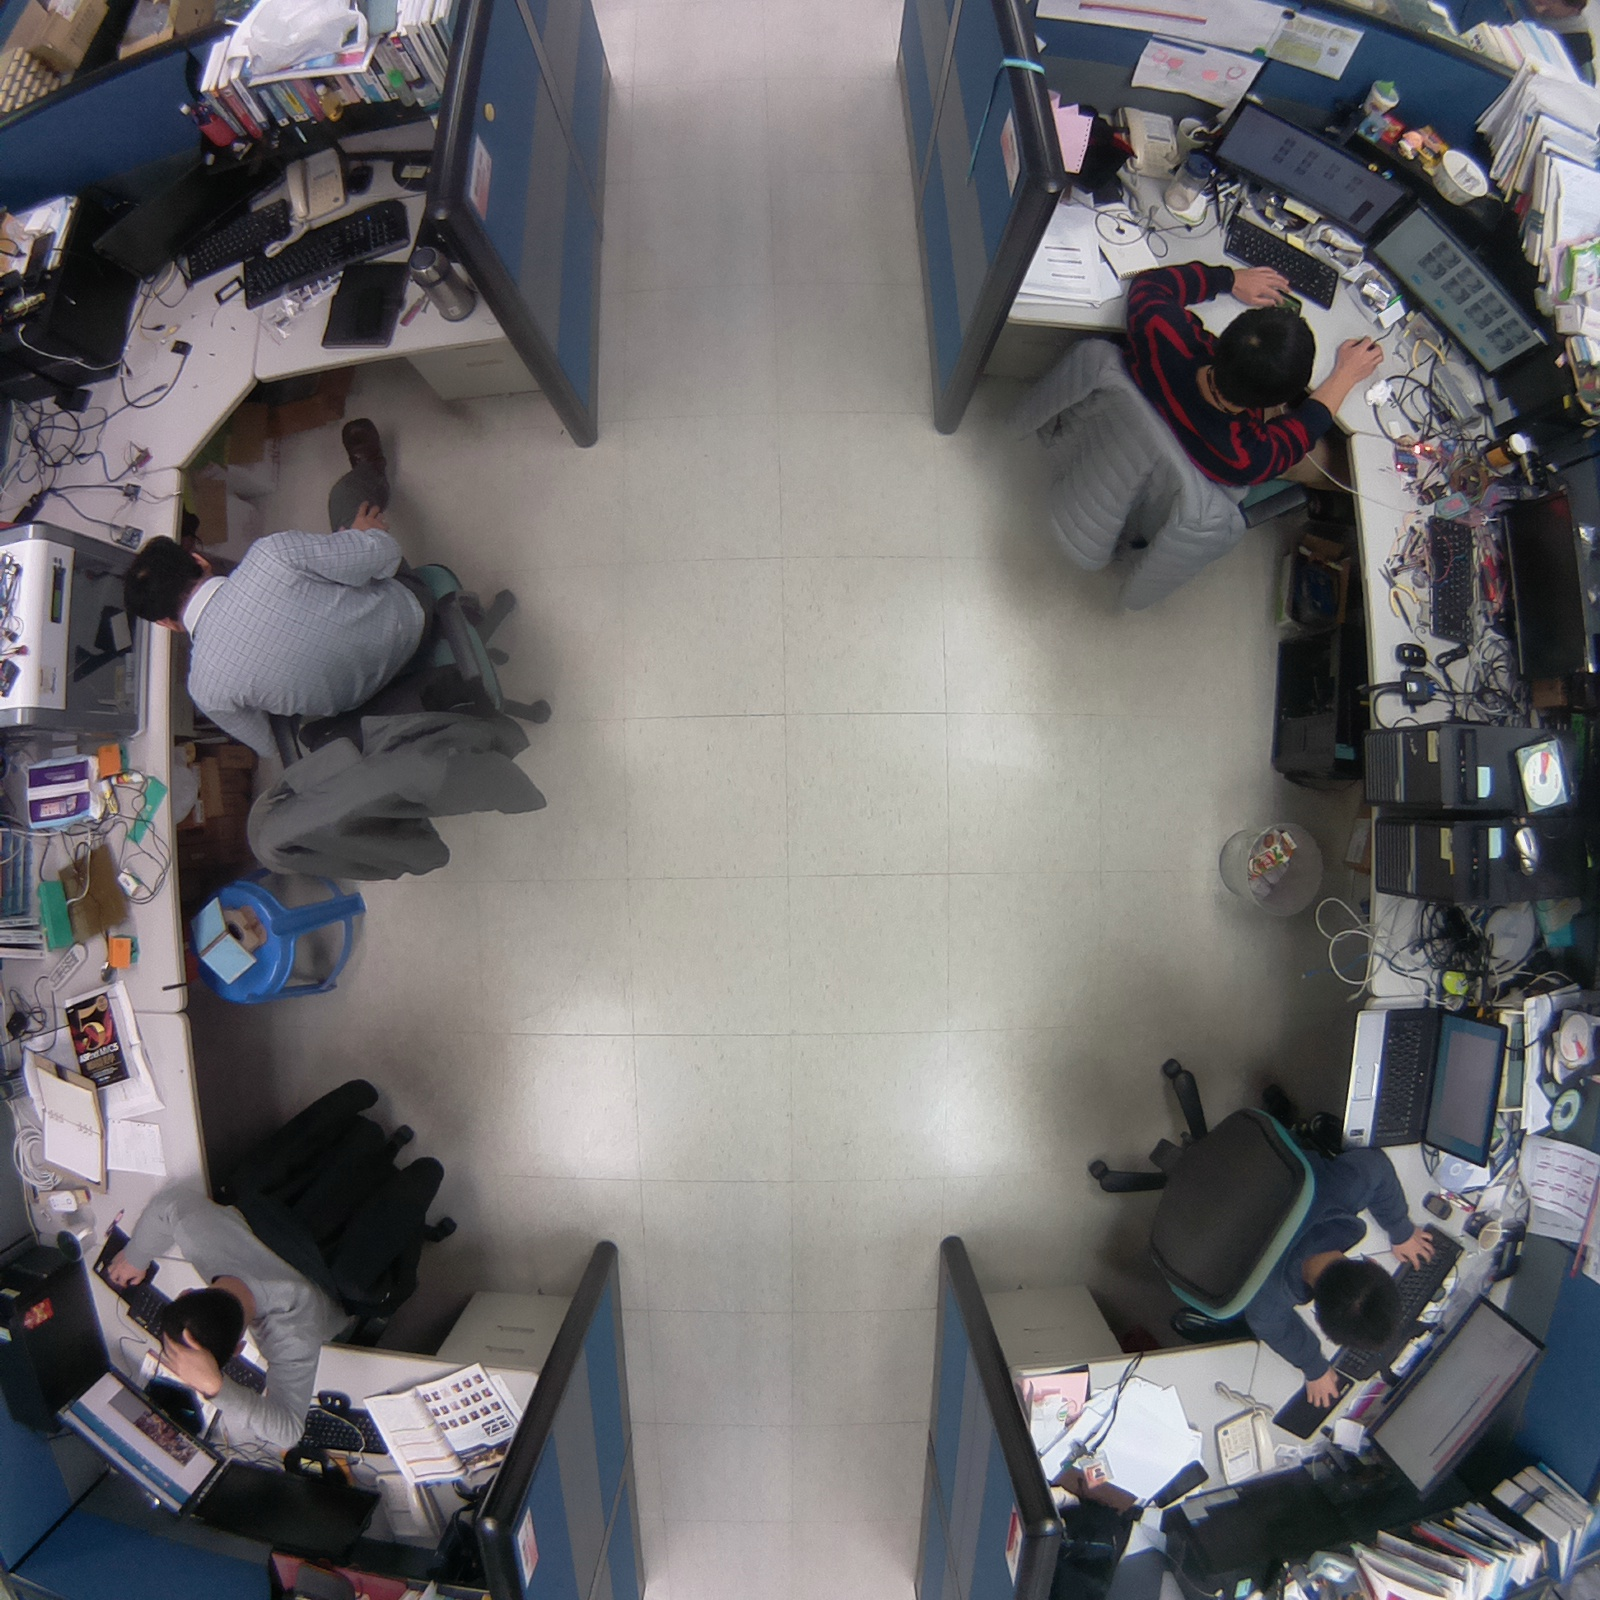head: (1206, 295, 1321, 417), (112, 527, 221, 640), (1302, 1248, 1410, 1357), (155, 1282, 251, 1378)
sitting: (105, 401, 573, 891), (98, 1063, 481, 1457), (994, 251, 1385, 632), (1073, 1037, 1448, 1418)
